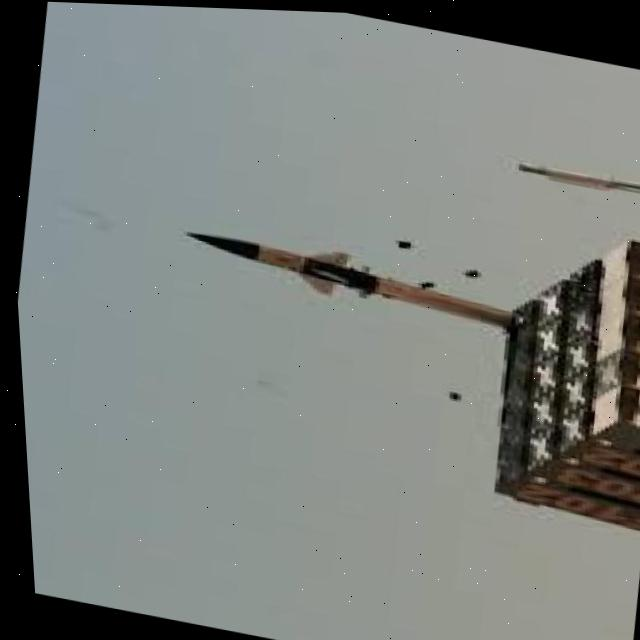missile: (176, 218, 511, 334)
